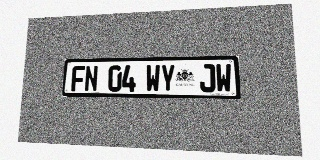0: (108, 65, 122, 92)
4: (122, 65, 136, 92)
F: (71, 66, 85, 91)
J: (200, 64, 215, 92)
N: (84, 66, 98, 92)
W: (215, 64, 232, 93), (146, 65, 160, 92)
Y: (160, 65, 175, 92)
